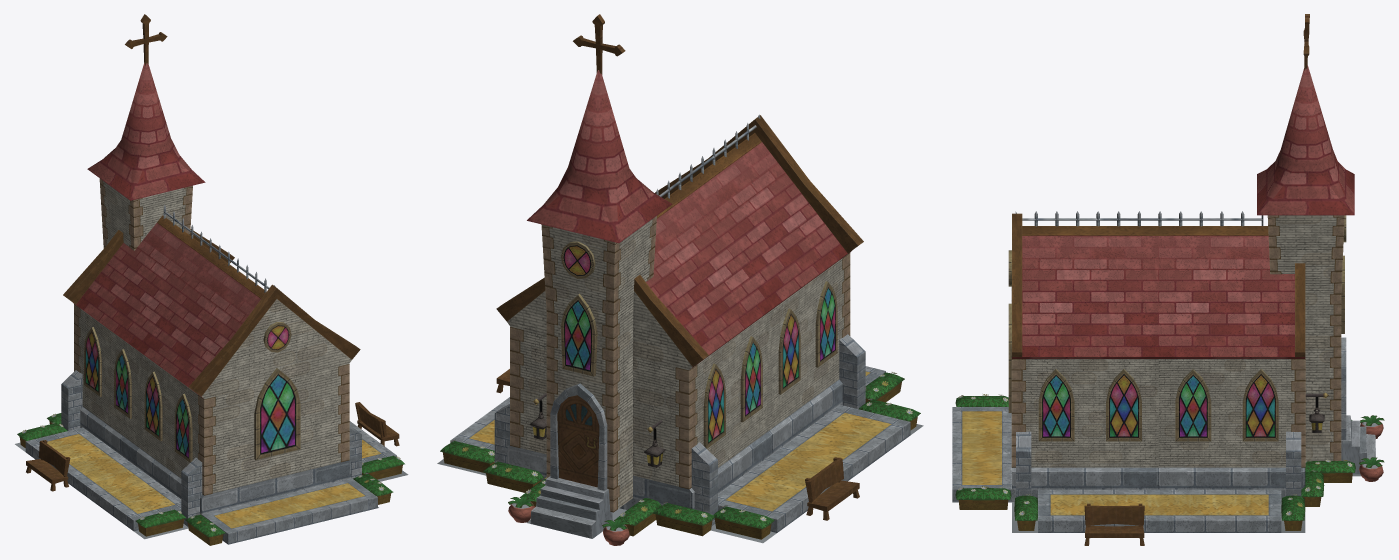
The model's file is HOS0110014.fbx.
3 views of the same model, side by side, from view 1: azimuth 30°, elevation 25°; view 2: azimuth 150°, elevation 25°; view 3: azimuth 270°, elevation 25° (orthographic). The views are drawn at different scales.
Visible parts, largest first — view 1: smHOS0110014; view 2: smHOS0110014; view 3: smHOS0110014.
Part boxes in pixels (x1,y1,x2,y2): smHOS0110014: (15, 14, 408, 545); smHOS0110014: (437, 14, 923, 545); smHOS0110014: (952, 14, 1384, 545).
Bounding box in the file's own units: 1115 × 1372 × 1204.
1 material, 1 textured.
